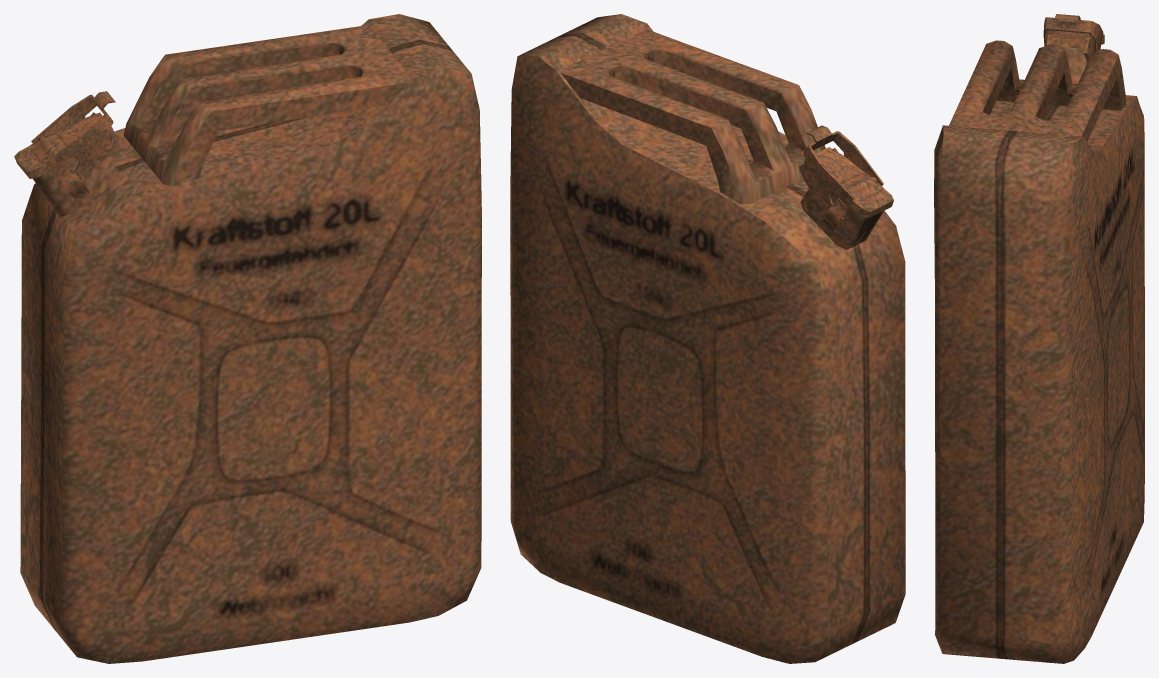
File: fuelcan1.obj
The picture shows the model from 3 angles, left to right: view 1: azimuth 30°, elevation 25°; view 2: azimuth 150°, elevation 25°; view 3: azimuth 270°, elevation 25°; orthographic projection. The views are drawn at different scales.
Parts seen in each view (by area): view 1: polymsh; view 2: polymsh; view 3: polymsh.
Part boxes in pixels (box(x1,y1,x2,y2)): polymsh: box(14, 14, 481, 663); polymsh: box(510, 14, 905, 663); polymsh: box(934, 14, 1144, 663).
Size of the model in its own units: 1.58 by 2.01 by 0.7396.
